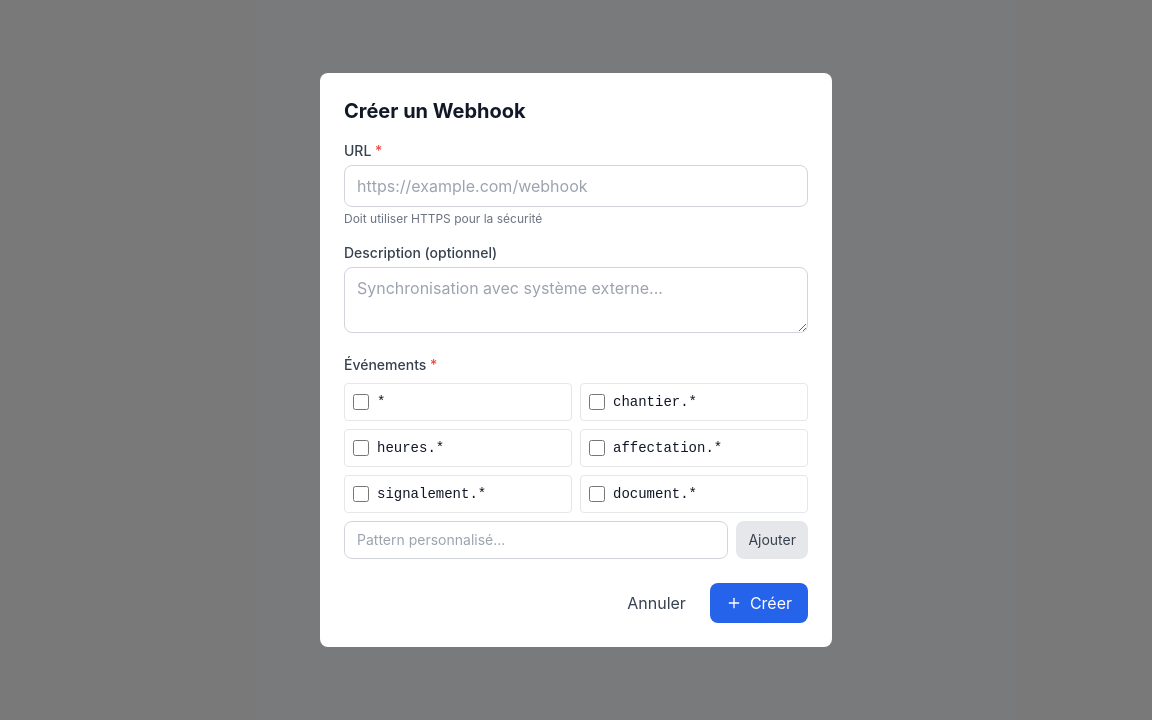
Test: CreateWebhookModal › permet d ajouter un evenement personnalise
Note: use fireEvent.change to avoid useFocusTrap focus interference
Step 1. Type "custom.event" into the field with placeholder "Pattern personnalisé..." → [536, 540], box top-left (344, 521), bottom-right (728, 559)
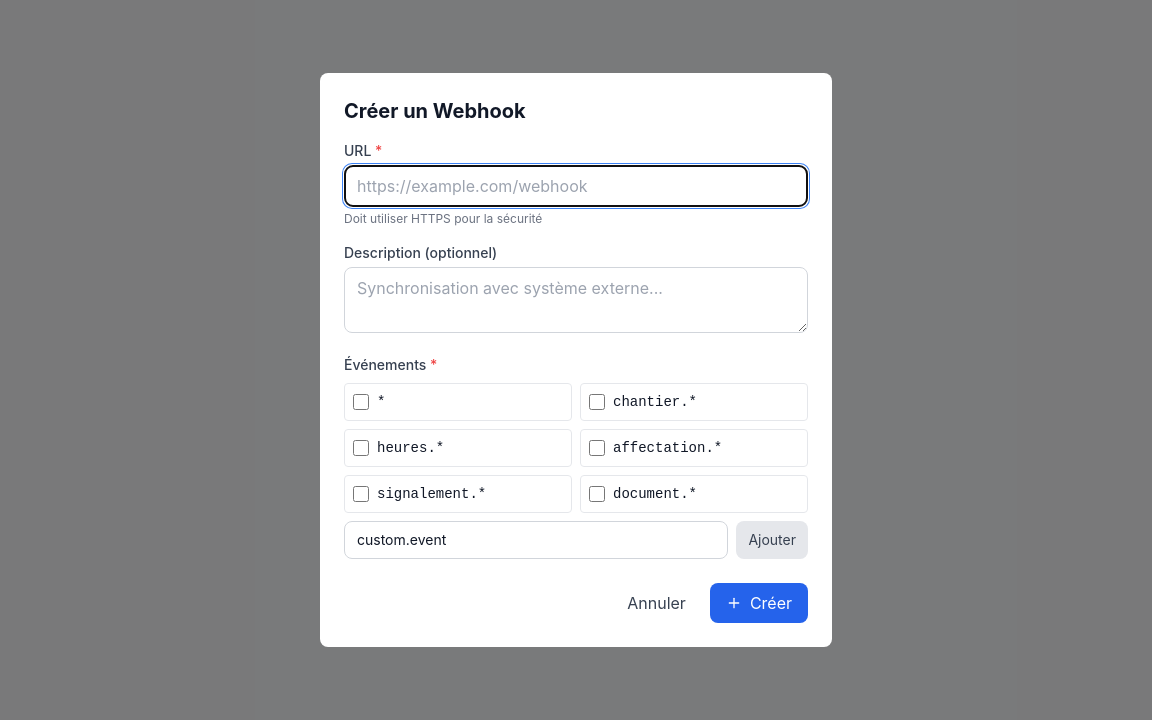
Step 2. Click the button "Ajouter" → [772, 540], box top-left (736, 521), bottom-right (808, 559)
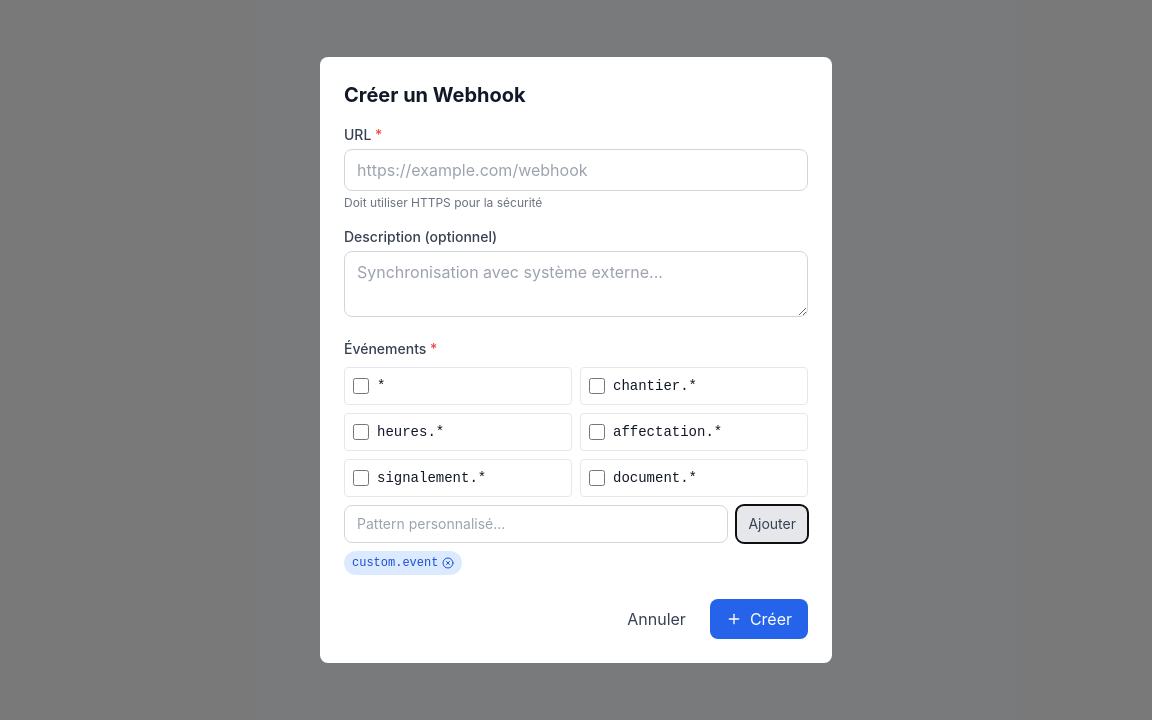
Now the text "custom.event" is shown, box top-left (352, 555), bottom-right (438, 571)
